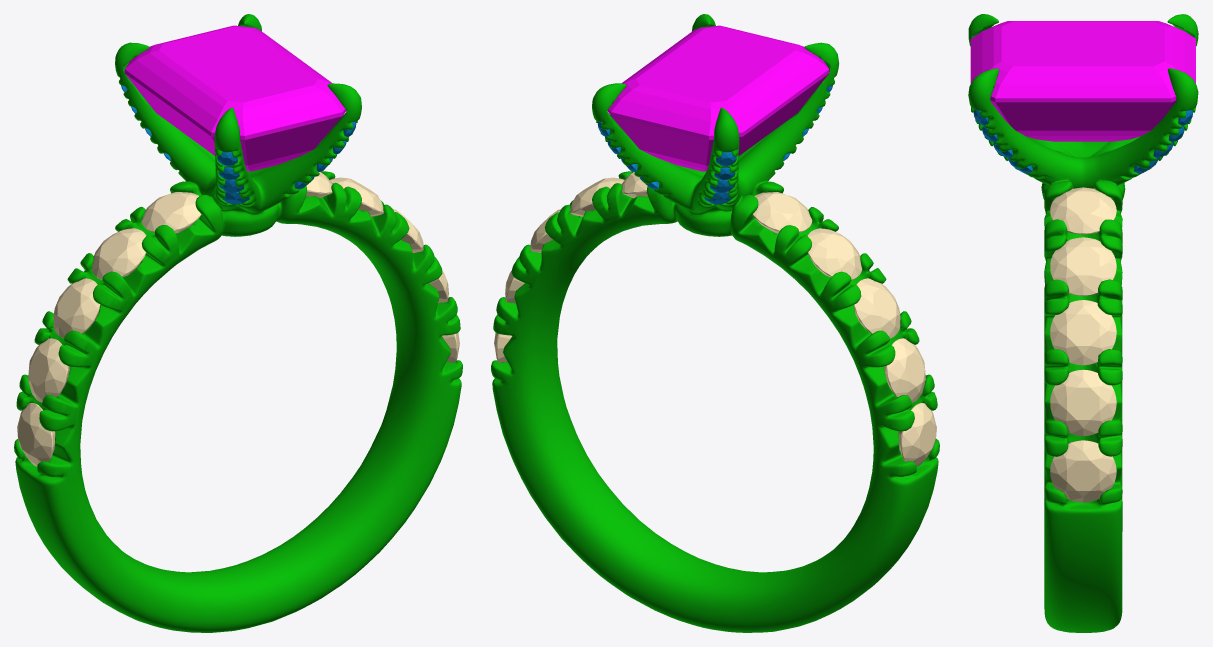
File: BE1D8721P_EM_200ct_RENDER.glb
The picture shows the model from 3 angles, left to right: view 1: azimuth 30°, elevation 25°; view 2: azimuth 150°, elevation 25°; view 3: azimuth 270°, elevation 25°; orthographic projection.
Parts seen in each view (by area): view 1: Metal 01, CS_Diamond_Emerald, Diamond_Round_Gem_SH.007, Diamond_Round_Gem_SH.006, Diamond_Round_Gem_SH, Diamond_Round_Gem_SH.008, Diamond_Round_Gem_SH.001, Diamond_Round_Gem_SH.005; view 2: Metal 01, CS_Diamond_Emerald, Diamond_Round_Gem_SH.007, Diamond_Round_Gem_SH.006, Diamond_Round_Gem_SH, Diamond_Round_Gem_SH.008, Diamond_Round_Gem_SH.001, Diamond_Round_Gem_SH.005; view 3: Metal 01, CS_Diamond_Emerald, Diamond_Round_Gem_SH.003, Diamond_Round_Gem_SH.004, Diamond_Round_Gem_SH.002, Diamond_Round_Gem_SH.005, Diamond_Round_Gem_SH.009.
Boxes of the visible parts, bbox=[...] form: Metal 01: bbox=[14, 14, 462, 632]; CS_Diamond_Emerald: bbox=[124, 25, 346, 171]; Diamond_Round_Gem_SH.007: bbox=[53, 278, 100, 338]; Diamond_Round_Gem_SH.006: bbox=[91, 228, 146, 279]; Diamond_Round_Gem_SH: bbox=[28, 338, 69, 402]; Diamond_Round_Gem_SH.008: bbox=[141, 192, 201, 233]; Diamond_Round_Gem_SH.001: bbox=[17, 403, 55, 466]; Diamond_Round_Gem_SH.005: bbox=[329, 177, 383, 216]; Metal 01: bbox=[491, 14, 939, 632]; CS_Diamond_Emerald: bbox=[607, 25, 829, 171]; Diamond_Round_Gem_SH.007: bbox=[854, 278, 900, 338]; Diamond_Round_Gem_SH.006: bbox=[807, 228, 862, 279]; Diamond_Round_Gem_SH: bbox=[884, 338, 925, 402]; Diamond_Round_Gem_SH.008: bbox=[752, 192, 812, 233]; Diamond_Round_Gem_SH.001: bbox=[898, 403, 936, 466]; Diamond_Round_Gem_SH.005: bbox=[570, 177, 624, 216]; Metal 01: bbox=[968, 14, 1198, 632]; CS_Diamond_Emerald: bbox=[970, 21, 1195, 141]; Diamond_Round_Gem_SH.003: bbox=[1050, 369, 1116, 435]; Diamond_Round_Gem_SH.004: bbox=[1050, 300, 1116, 365]; Diamond_Round_Gem_SH.002: bbox=[1050, 440, 1116, 502]; Diamond_Round_Gem_SH.005: bbox=[1050, 237, 1116, 296]; Diamond_Round_Gem_SH.009: bbox=[1050, 187, 1116, 234].
Size of the model in its own units: 21.12 by 26.36 by 9.7.
